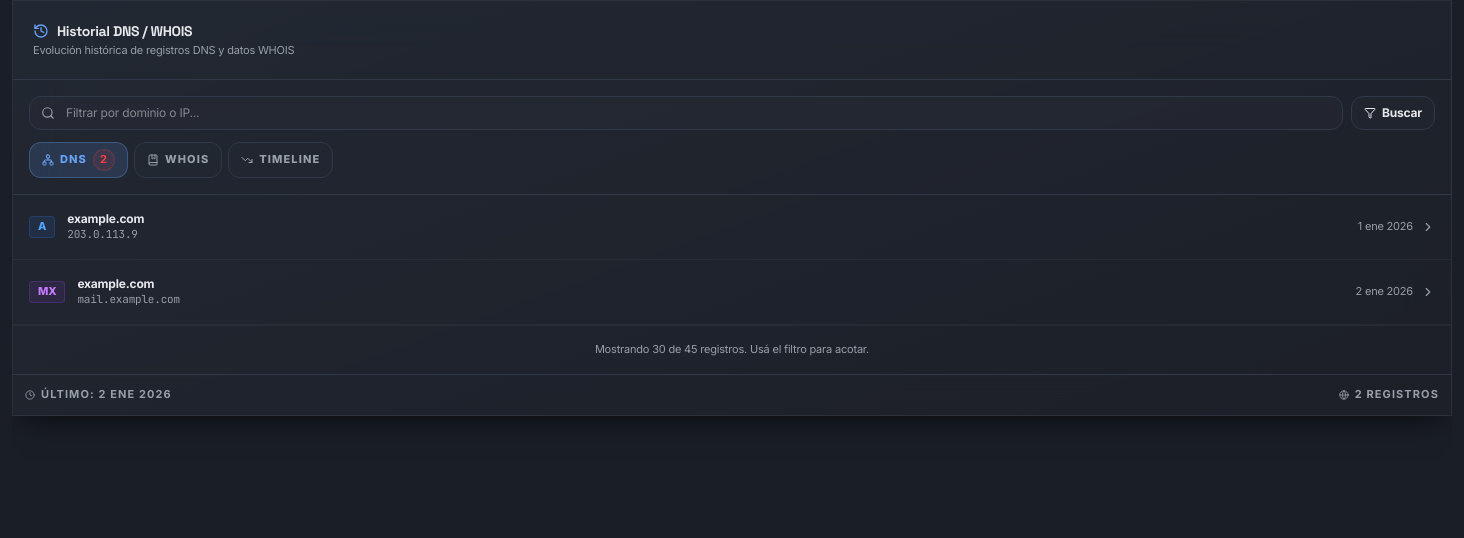
Test: HistoryPanel — historial DNS/WHOIS con fetch mockeado › DNS: snapshot sin TTL muestra 'N/A' al expandir
Expected: the text "mail.example.com" is shown, left=77, top=292, right=180, bottom=308
Click the button "mail.example.com" at x=47, y=292, box left=13, top=260, right=1451, bottom=324
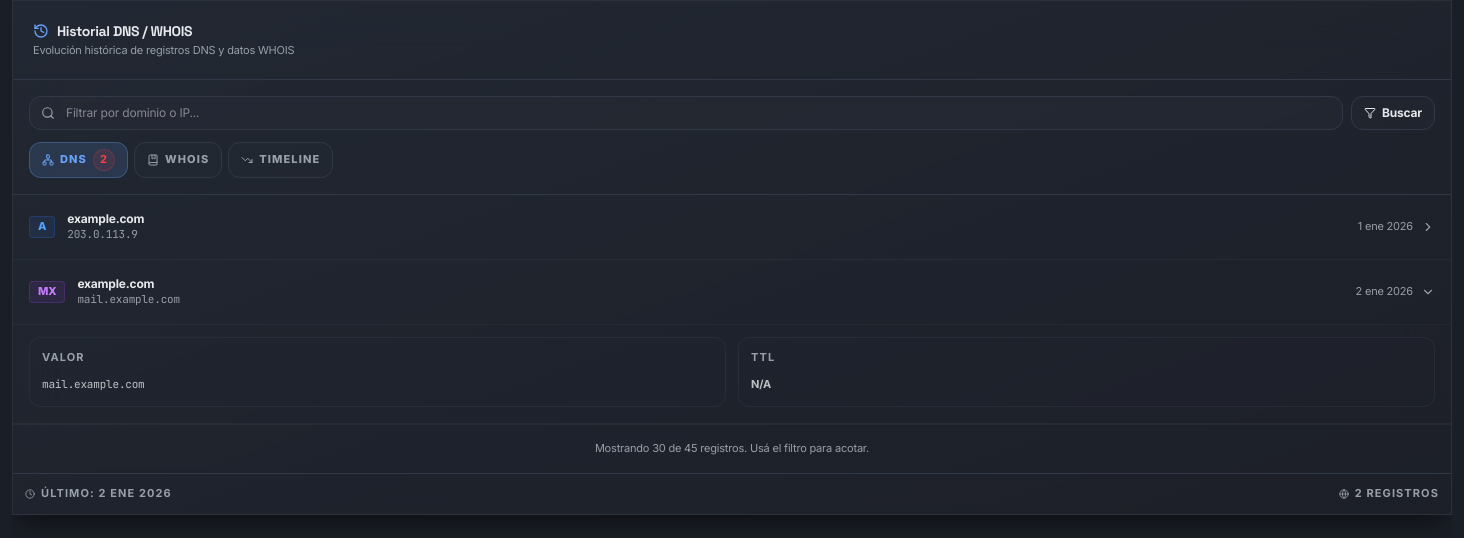
Result: the text "N/A" is shown at left=751, top=377, right=771, bottom=391
